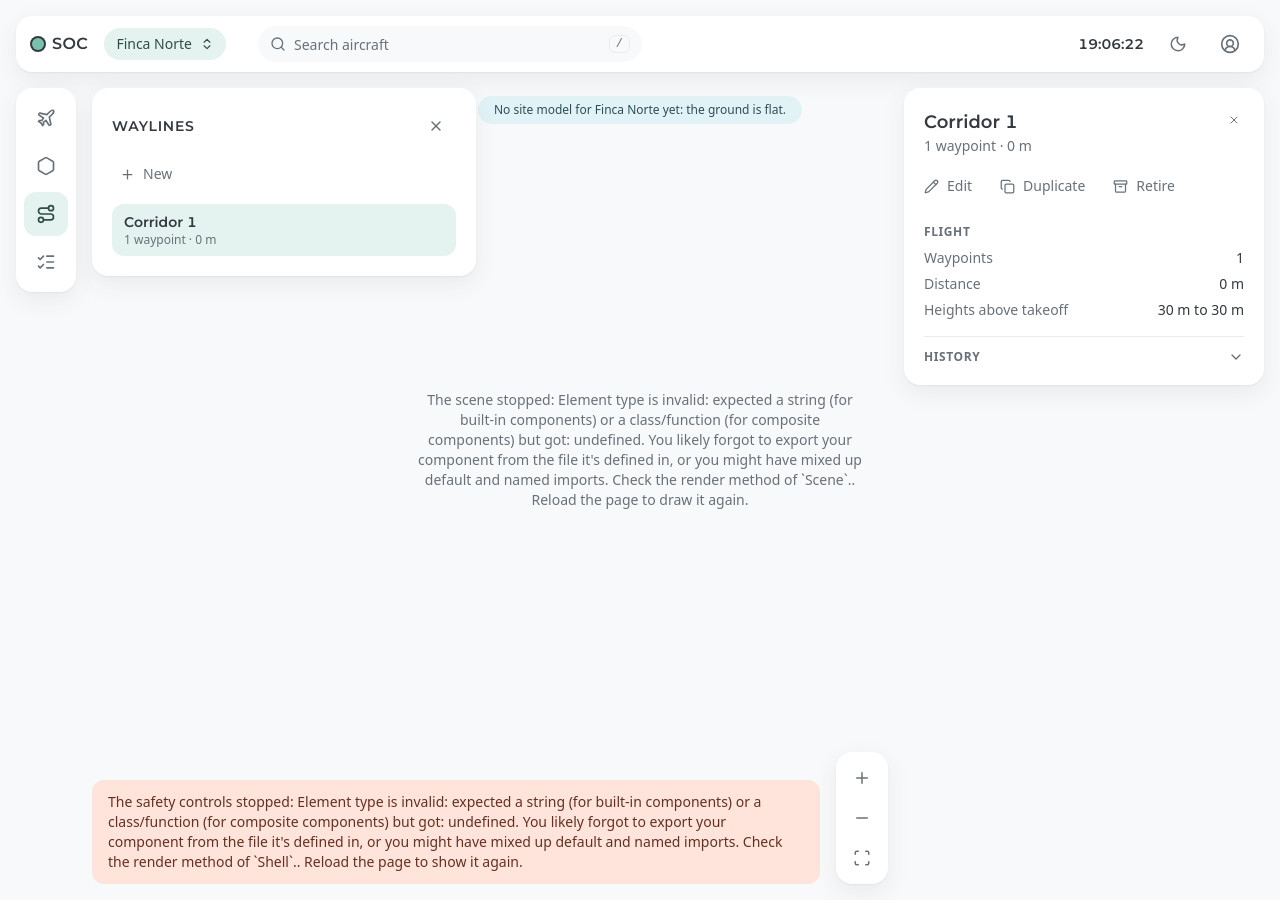
changing the panel drops the selection (NFR-UX-03) › drops a wayline when the rail opens geofences
expect the header is shown: met, box top-left (16, 16), bottom-right (1264, 72)
expect the heading "Corridor 1" is shown: met, box top-left (924, 111), bottom-right (1018, 133)
Click the button named "Geofences".
click(46, 166)  # box top-left (24, 144), bottom-right (68, 188)
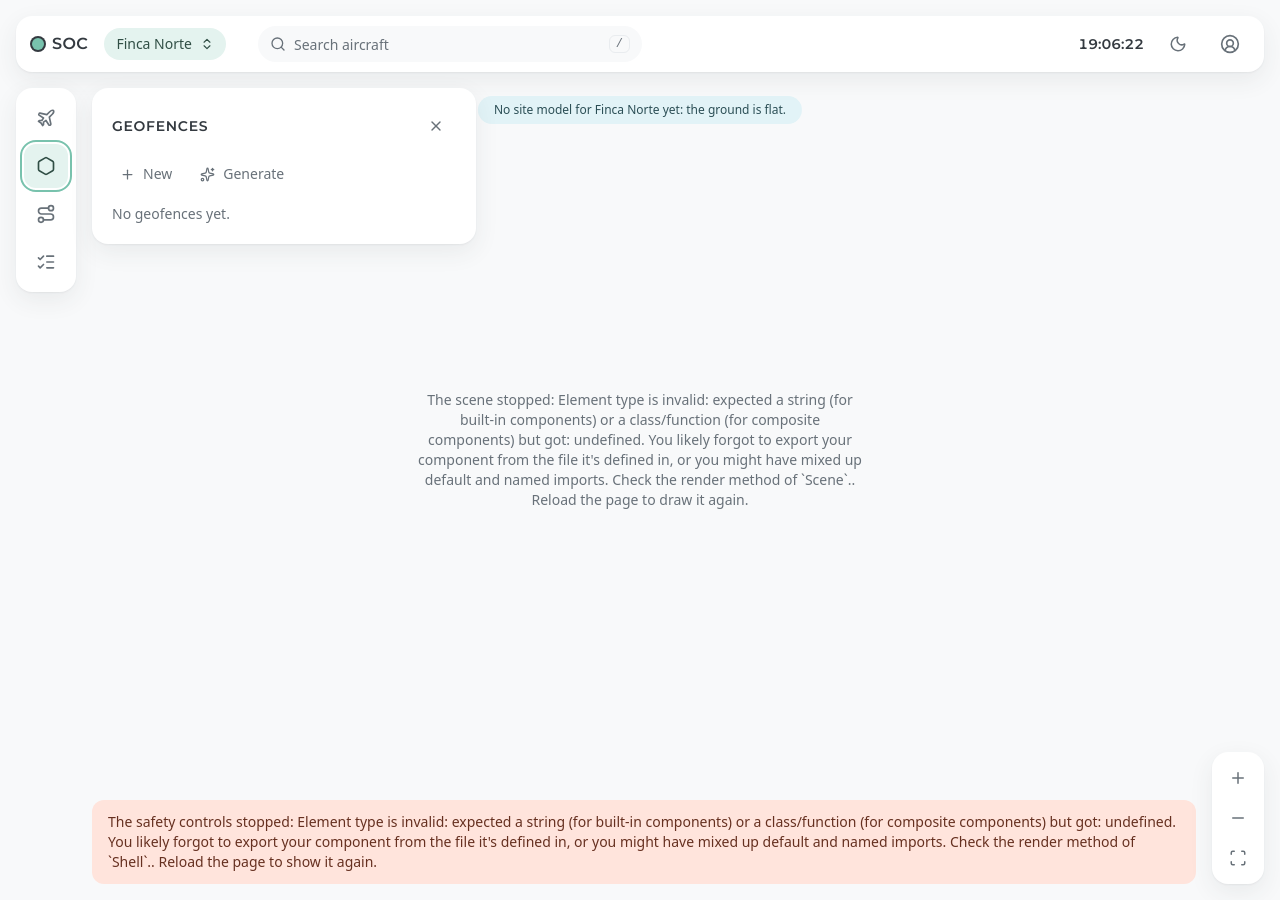
expect the heading "Geofences" is shown: met, box top-left (112, 116), bottom-right (208, 136)
expect the button "Inspector" is gone: met
